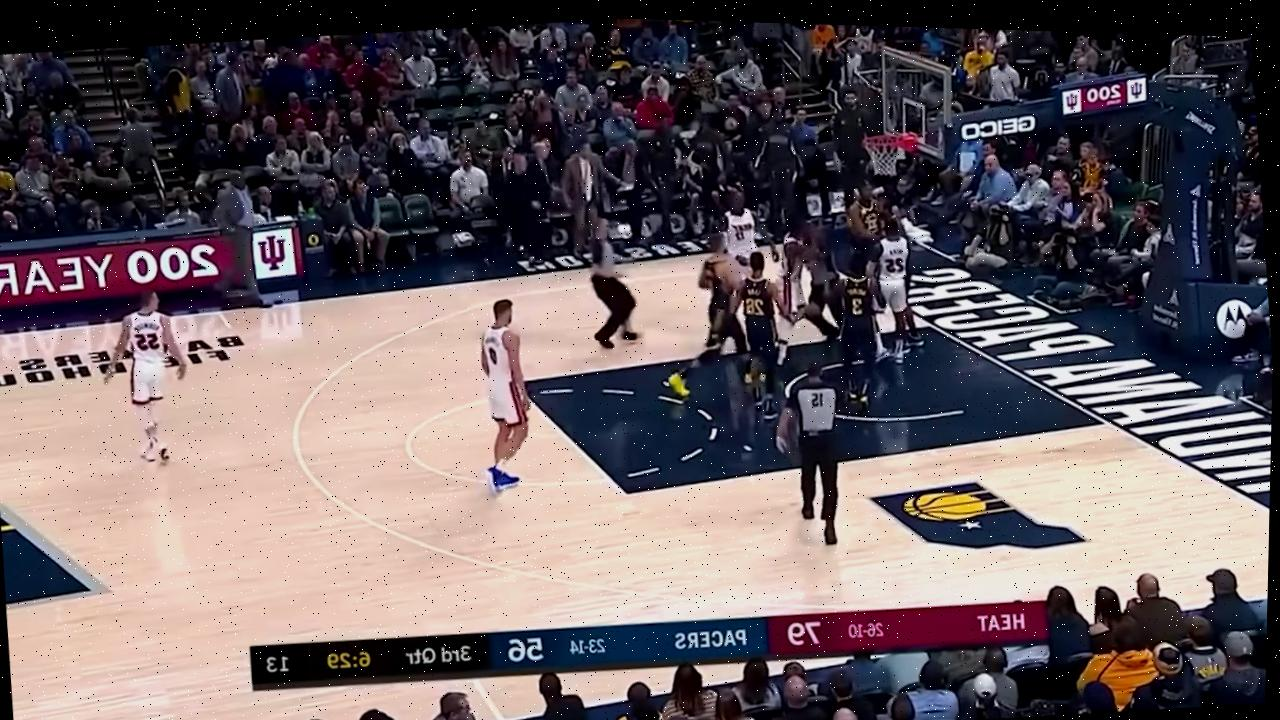foul: (768, 185, 924, 390)
